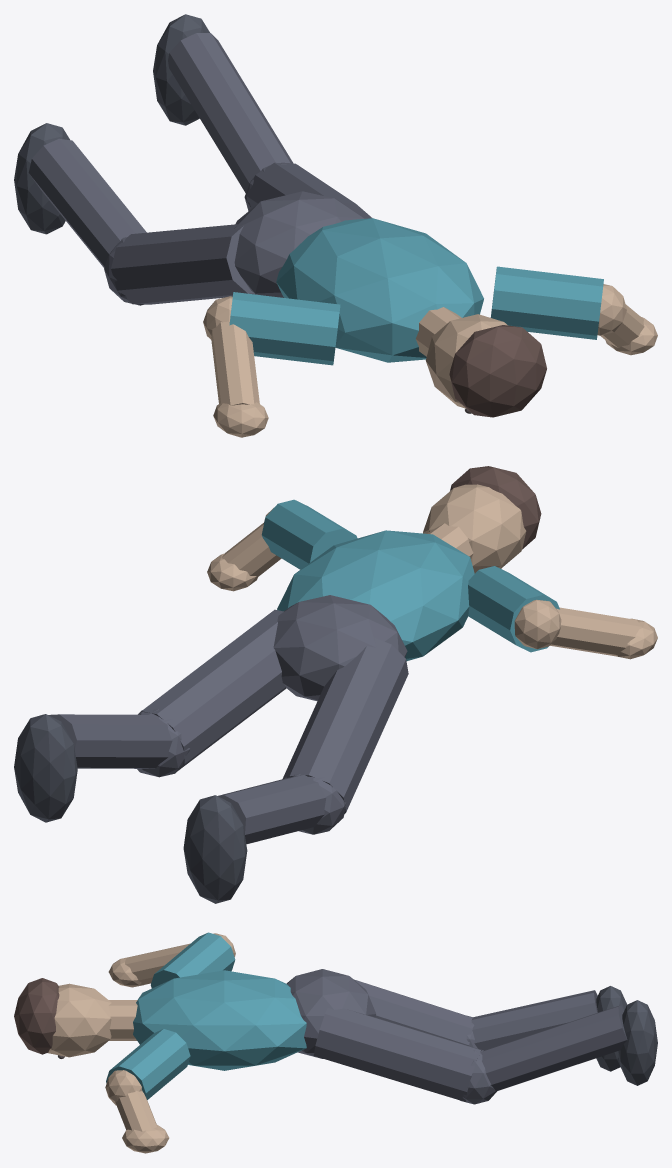
3 views of the same model, one above another, from view 1: azimuth 30°, elevation 25°; view 2: azimuth 150°, elevation 25°; view 3: azimuth 270°, elevation 25° (orthographic). The views are drawn at different scales.
Visible parts, largest first — view 1: world; view 2: world; view 3: world.
Part boxes in pixels (bbox=[...]): world: bbox=[14, 14, 657, 437]; world: bbox=[14, 466, 657, 903]; world: bbox=[14, 932, 657, 1153].
Bounding box in the file's own units: 1.25 × 0.4556 × 2.04.
